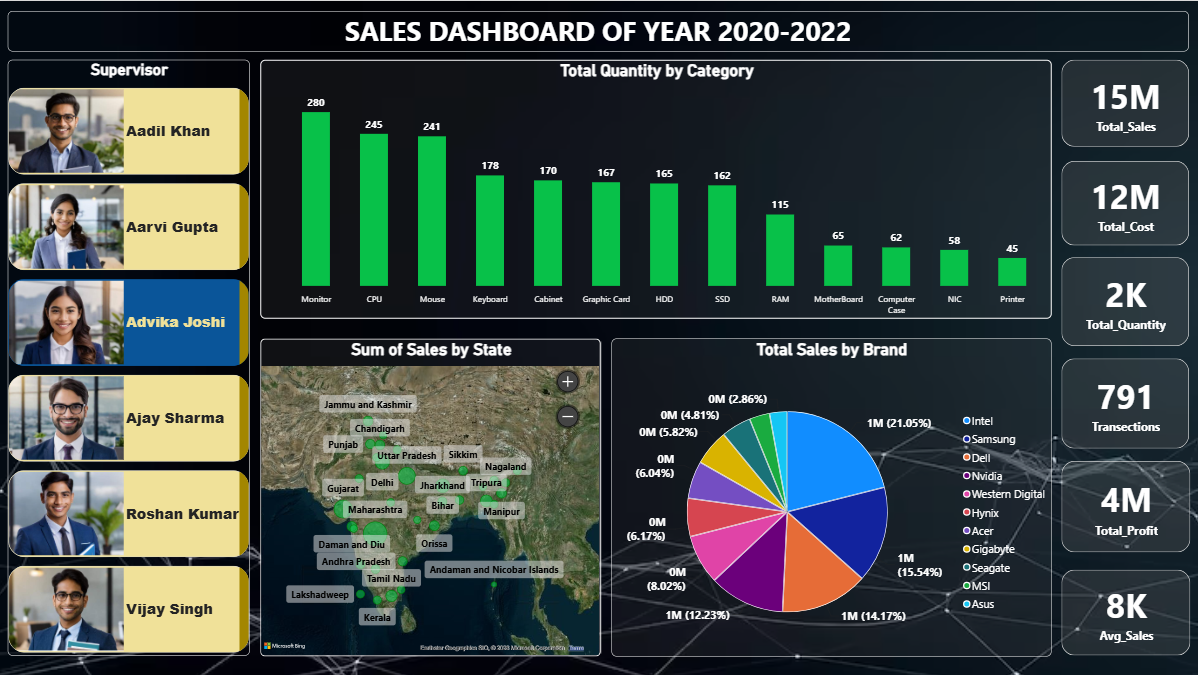

The page's visual inventory and layout, read from the dashboard file:
{"tool":"powerbi","page":{"name":"Page 1","canvas":[1920,1080],"ordinal":0},"visuals":[{"type":"textbox","box":[14.5,16.3,1889.3,65.1],"z":0},{"type":"cardVisual","fields":{"Data":["Sum(Sales_Data.Total_Sales)"]},"box":[1699.3,94.1,204.5,139.3],"z":1000},{"type":"cardVisual","fields":{"Data":["Sum(Sales_Data.Total_Cost)"]},"box":[1699.3,255.2,204.5,135.7],"z":2000},{"type":"cardVisual","fields":{"Data":["Sum(Sales_Data.Quantity)"]},"box":[1699.3,410.8,204.5,143],"z":3000},{"type":"cardVisual","fields":{"Data":["CountNonNull(Sales_Data.Order_Number)"]},"box":[1699.3,571.9,204.5,144.8],"z":4000},{"type":"cardVisual","fields":{"Data":["Sales_Data.Total_Profit"]},"box":[1699.3,736.5,206.3,146.6],"z":5000},{"type":"clusteredColumnChart","title":"Total Quantity by Category","fields":{"Category":["Sales_Data.Category"],"Y":["Sum(Sales_Data.Quantity)"]},"box":[418,94.1,1266.8,414.4],"z":6000},{"type":"pieChart","fields":{"Category":["Sales_Data.Brand"],"Y":["Sum(Sales_Data.Sales)"]},"box":[980.8,539.3,704,508.5],"z":6001},{"type":"cardVisual","fields":{"Data":["Sales_Data.Avg_Sales"]},"box":[1699.3,910.3,206.3,137.5],"z":6002},{"type":"map","fields":{"Category":["State_list.State"],"Size":["Sum(Sales_Data.Sales)"]},"box":[418,539.3,544.7,508.5],"z":6003},{"type":"advancedSlicerVisual","fields":{"Values":["Supervisor.Supervisor"]},"box":[14.5,94.1,387.3,953.7],"z":6004}]}

Visuals, with their boxes in screenshot pixels (x1, y1, x2, y2), scaled from the page's 1920x1080 canvas onto the 1198x675 screenshot:
textbox: [9, 10, 1188, 51]
cardVisual - Sum(Sales_Data.Total_Sales): [1060, 59, 1188, 146]
cardVisual - Sum(Sales_Data.Total_Cost): [1060, 160, 1188, 244]
cardVisual - Sum(Sales_Data.Quantity): [1060, 257, 1188, 346]
cardVisual - CountNonNull(Sales_Data.Order_Number): [1060, 357, 1188, 448]
cardVisual - Sales_Data.Total_Profit: [1060, 460, 1189, 552]
"Total Quantity by Category" clusteredColumnChart: [261, 59, 1051, 318]
pieChart - Sales_Data.Brand x Sum(Sales_Data.Sales): [612, 337, 1051, 655]
cardVisual - Sales_Data.Avg_Sales: [1060, 569, 1189, 655]
map - State_list.State x Sum(Sales_Data.Sales): [261, 337, 601, 655]
advancedSlicerVisual - Supervisor.Supervisor: [9, 59, 251, 655]
